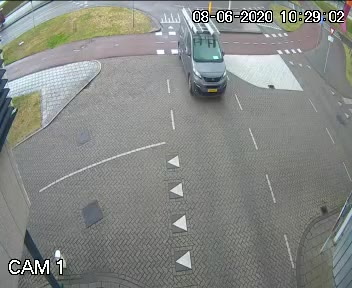car: (176, 8, 225, 100)
